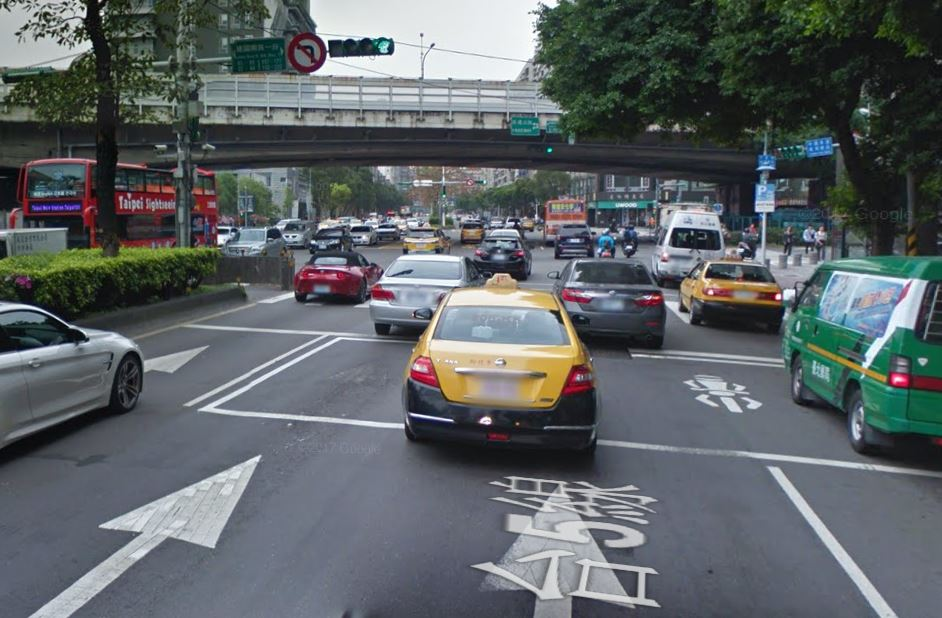No_left_turn: (286, 31, 327, 73)
Traffic_light_green: (327, 36, 394, 58)
